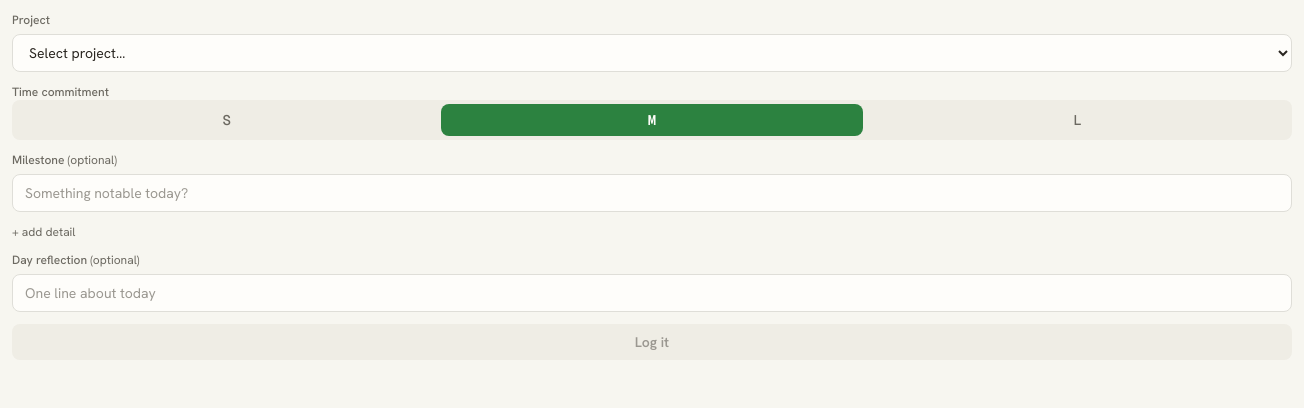
Test: quick add › saves a typed reflection through set_reflection when the entry is logged
Select "Work" in the dropdown labelled "Project" at (652, 53), box [12,34,1292,72]
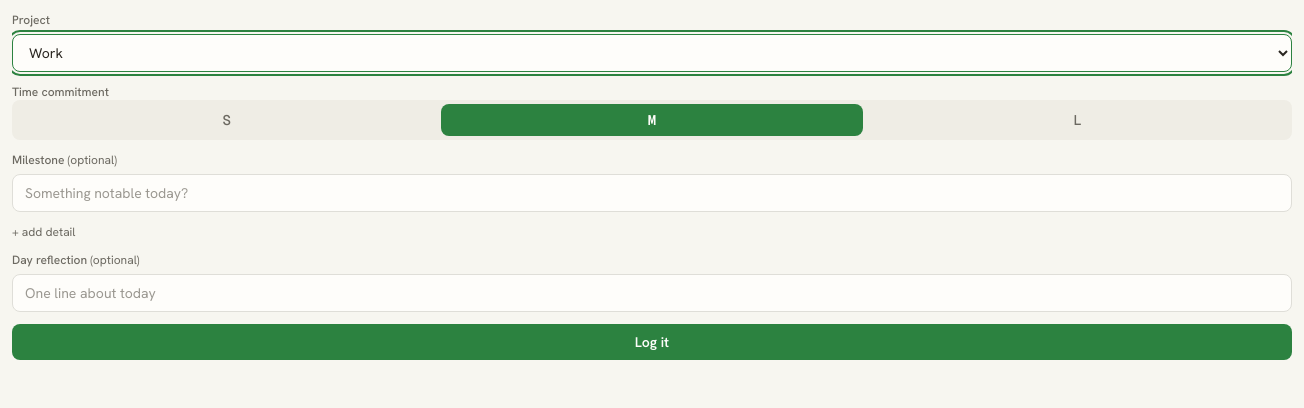
Click the button named "Medium".
click(652, 120)  # box [441,104,863,136]
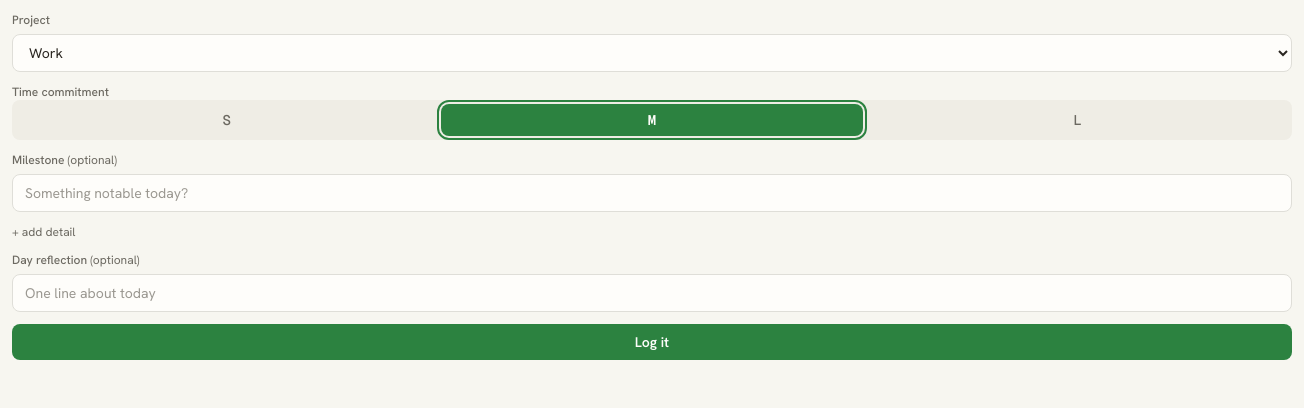
Type "proud of the demo" into the field labelled "Day reflection (optional)".
click(652, 293); type("proud of the demo")  # box [12,274,1292,312]
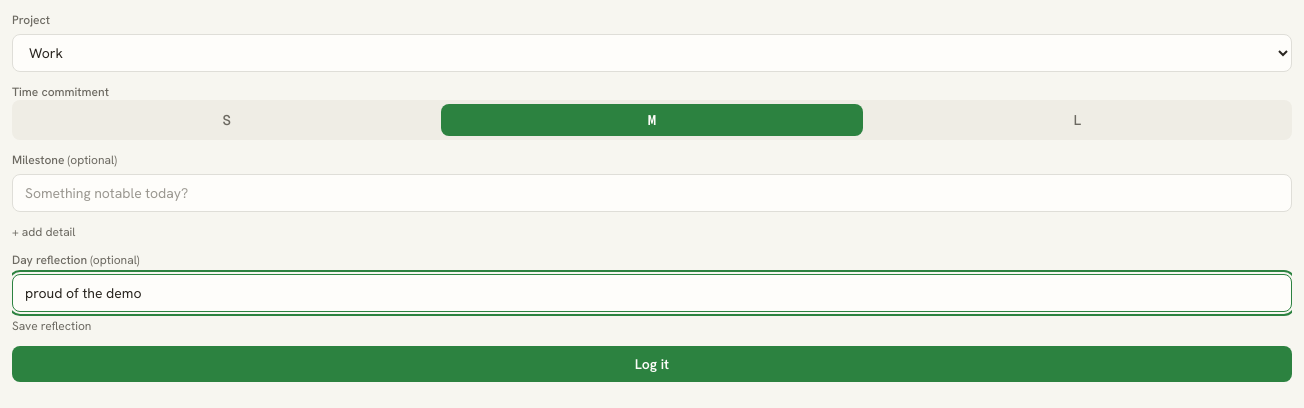
Click the button "Log it".
click(652, 364)  # box [12,346,1292,382]
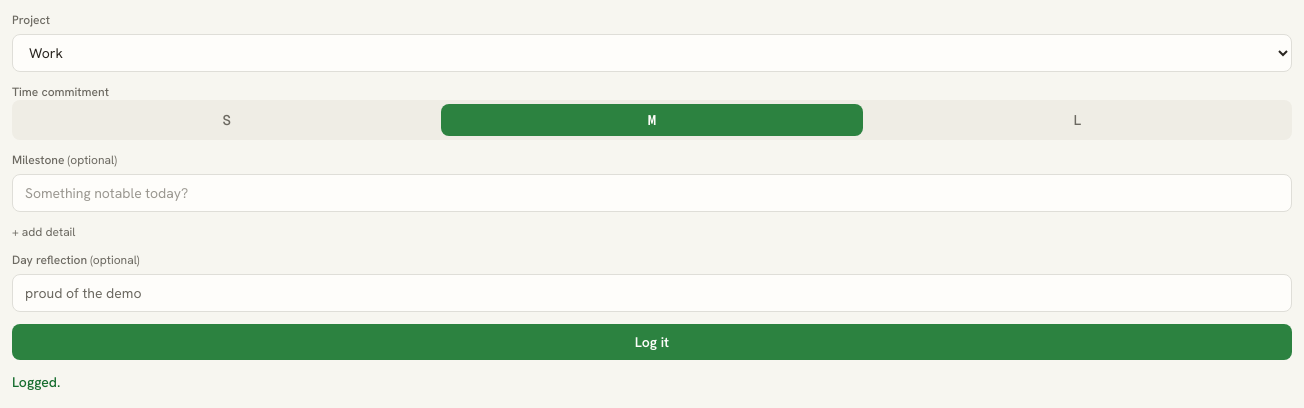
Expected: the text "Logged." is shown, [12,373,60,391]
